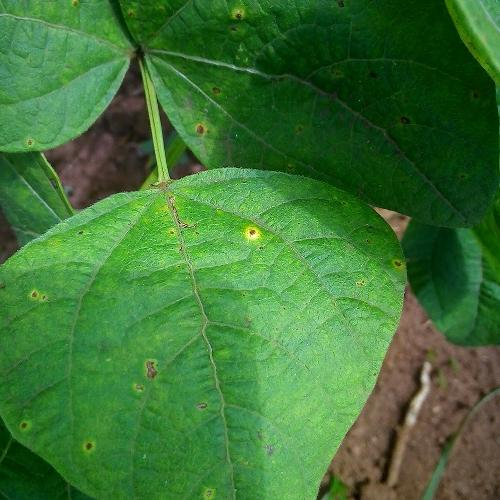hawar: (182, 2, 264, 152), (353, 42, 436, 144), (346, 233, 414, 298), (117, 353, 170, 432), (216, 214, 272, 264), (15, 267, 56, 319), (65, 428, 106, 474), (12, 404, 42, 437)
